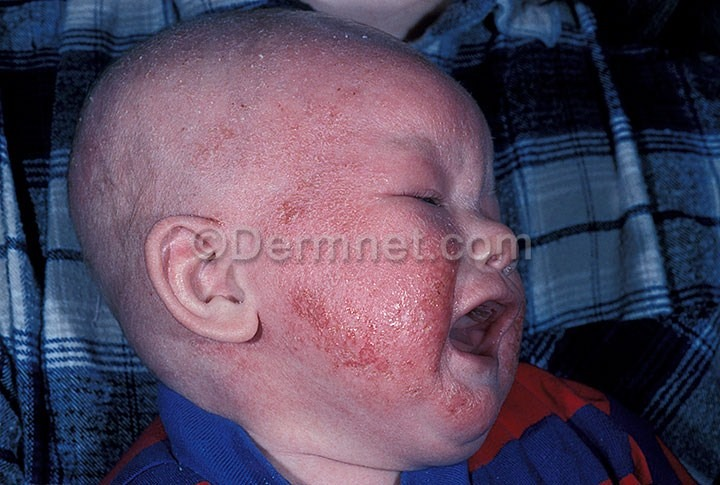Eczema: (167, 31, 490, 188), (247, 210, 473, 424), (170, 325, 251, 412), (502, 324, 517, 382)
